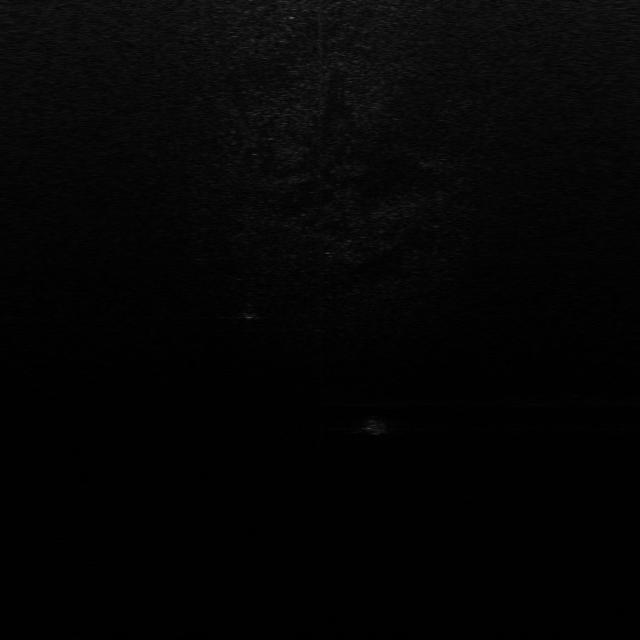ball: (360, 418, 390, 436)
circle cage: (239, 302, 263, 320)
